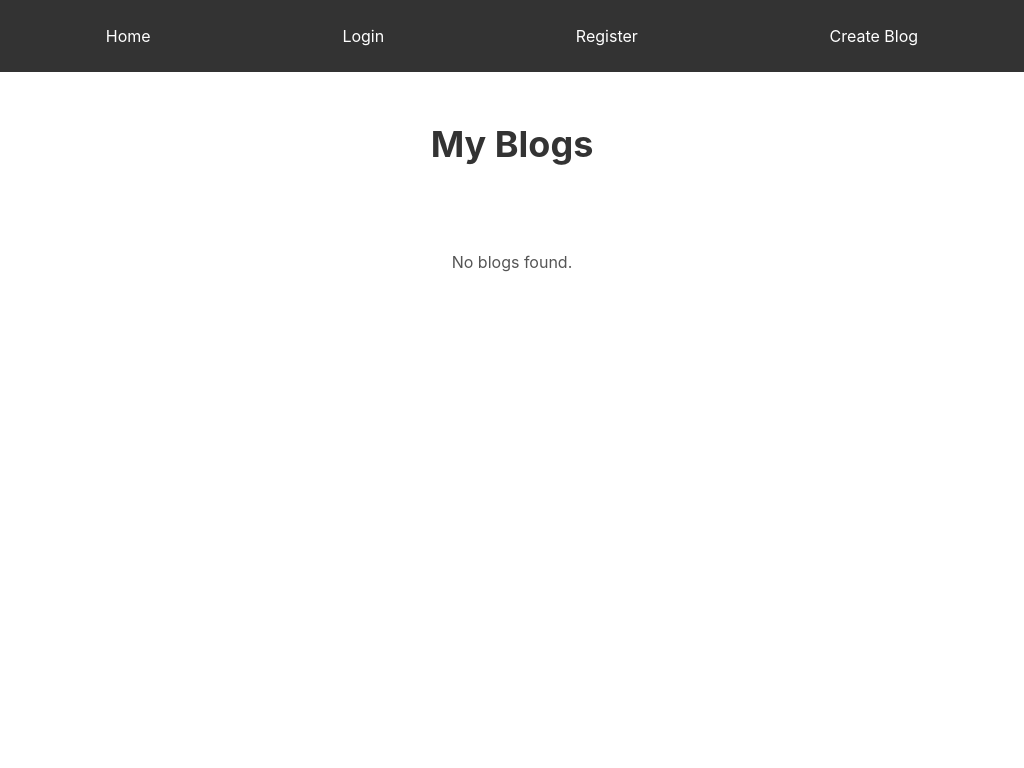
navigates to /login when Login link is clicked
Click the link "Login" at (363, 36), box [342, 26, 384, 46]
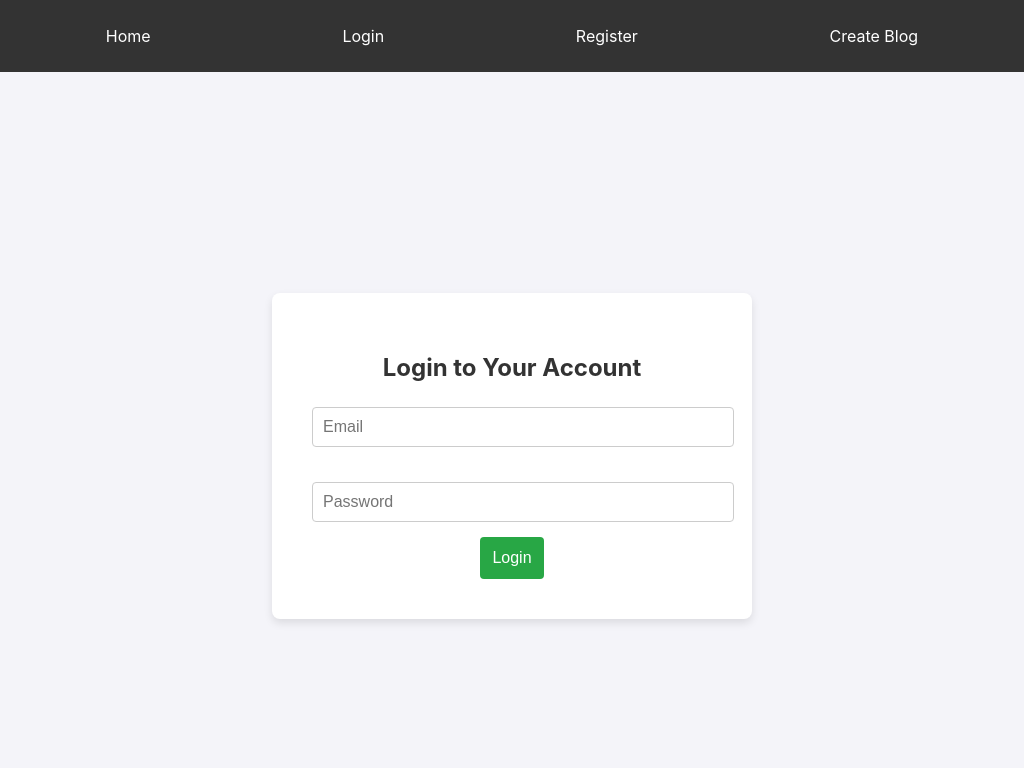
Now the heading "Login to Your Account" is shown, box [383, 353, 641, 382]
